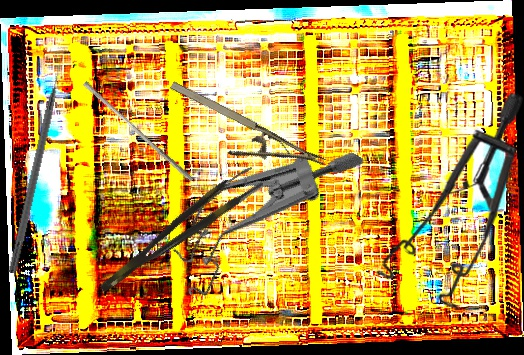Hook Surgical: (7, 54, 68, 275)
Needle Holder: (156, 76, 326, 197)
Pusher: (79, 80, 198, 183)
Speculum: (155, 97, 367, 338), (375, 93, 524, 309)
Tissue Forceps: (89, 163, 266, 295)
